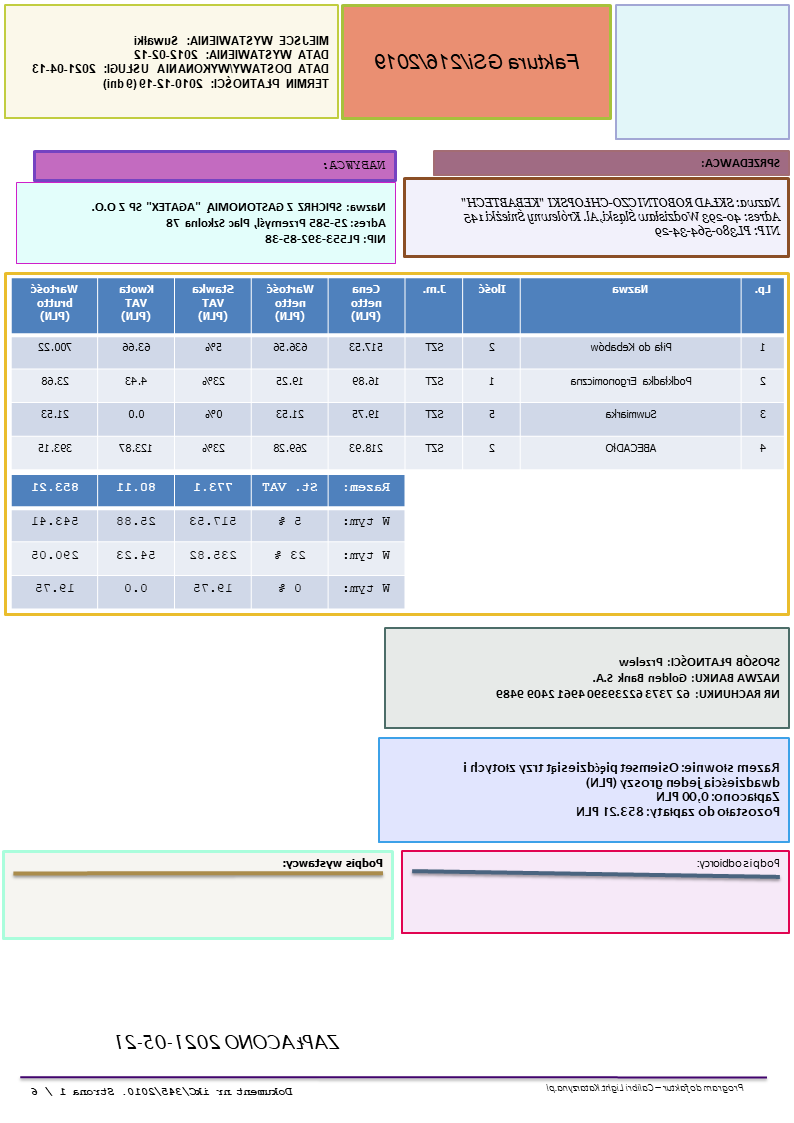Table: (11, 276, 786, 471), (11, 474, 406, 610)
TextBox: (460, 759, 782, 820), (31, 31, 331, 91), (457, 195, 783, 240), (495, 653, 782, 701), (89, 200, 388, 245), (114, 1030, 343, 1055), (374, 50, 583, 72), (29, 1084, 296, 1099), (543, 1081, 747, 1096), (281, 855, 386, 872), (696, 855, 783, 872), (701, 155, 783, 170), (323, 158, 387, 172)
